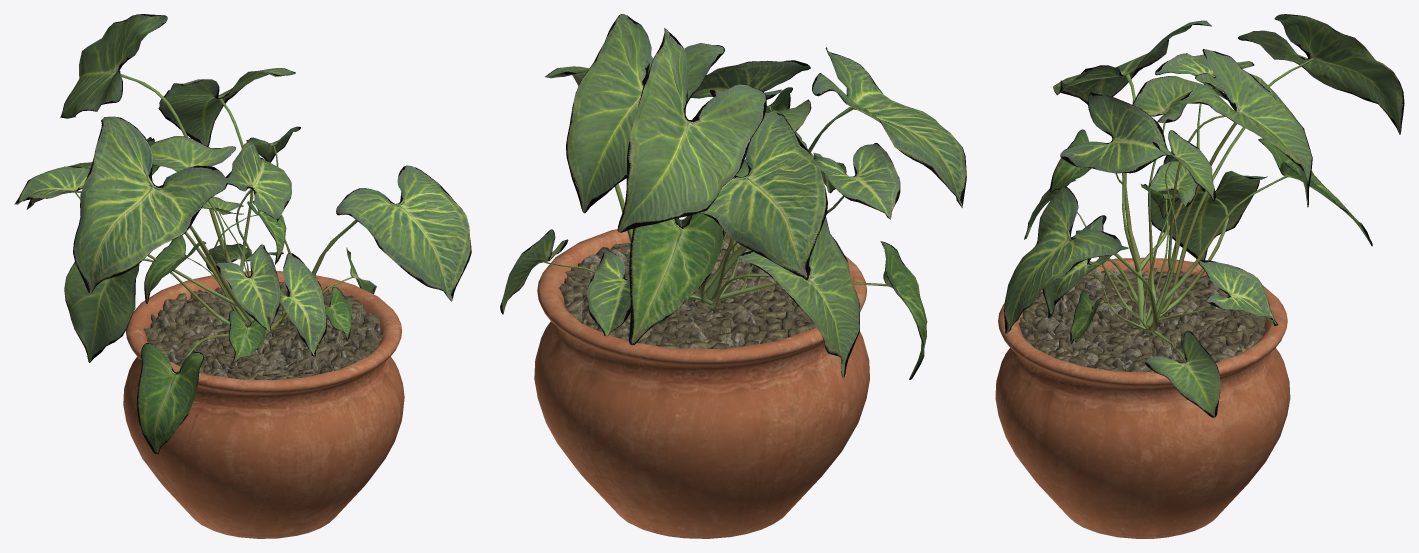
The model's file is plant-medium.glb.
3 renders of one model, left to right at view 1: azimuth 30°, elevation 25°; view 2: azimuth 150°, elevation 25°; view 3: azimuth 270°, elevation 25°, orthographic. The views are drawn at different scales.
Parts seen in each view (by area): view 1: potted_plant_02_leaves, potted_plant_02_pot, potted_plant_02_dirt; view 2: potted_plant_02_leaves, potted_plant_02_pot, potted_plant_02_dirt; view 3: potted_plant_02_leaves, potted_plant_02_pot, potted_plant_02_dirt.
Boxes of the visible parts, x1,y1,x2,y2 form: potted_plant_02_leaves: [14, 14, 471, 454]; potted_plant_02_pot: [123, 271, 404, 538]; potted_plant_02_dirt: [143, 282, 383, 380]; potted_plant_02_leaves: [500, 14, 966, 379]; potted_plant_02_pot: [534, 219, 869, 538]; potted_plant_02_dirt: [559, 234, 815, 349]; potted_plant_02_leaves: [1004, 14, 1404, 417]; potted_plant_02_pot: [995, 257, 1290, 538]; potted_plant_02_dirt: [1018, 268, 1265, 372].
Size of the model in its own units: 0.7009 by 0.8414 by 0.6572.
2 materials, 2 textured.
